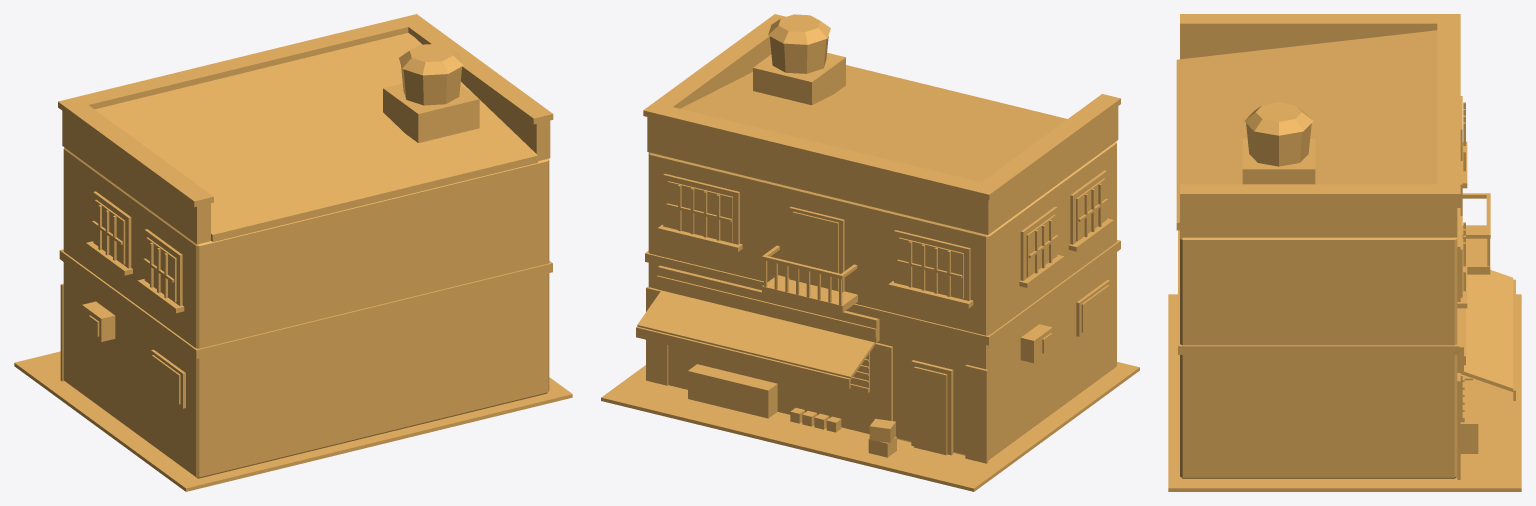
The picture shows the model from 3 angles, left to right: view 1: azimuth 30°, elevation 25°; view 2: azimuth 150°, elevation 25°; view 3: azimuth 270°, elevation 25°; orthographic projection. The views are drawn at different scales.
Parts seen in each view (by area): view 1: corpo; view 2: corpo; view 3: corpo.
Boxes of the visible parts, x1=… form: corpo: x1=14, y1=14, x2=572, y2=491; corpo: x1=601, y1=14, x2=1139, y2=491; corpo: x1=1168, y1=14, x2=1521, y2=491.
Size of the model in its own units: 1.39 by 1.12 by 1.07.
